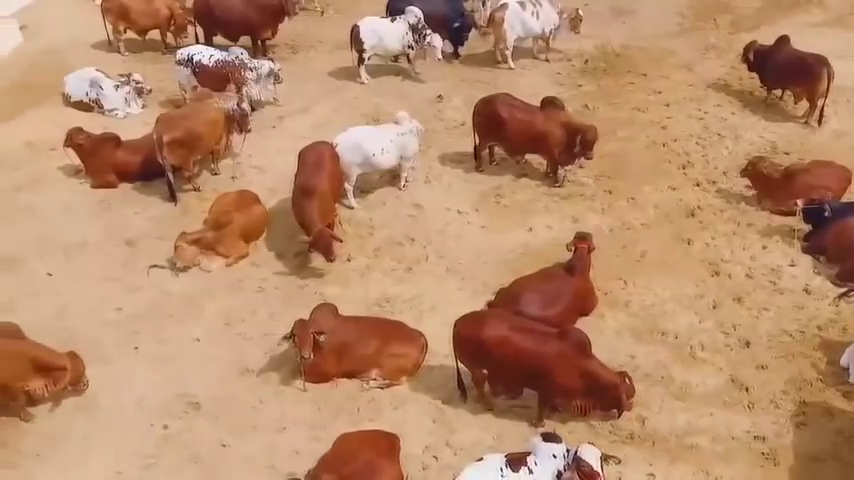bo: (441, 298, 639, 425), (276, 290, 436, 398), (466, 84, 603, 190), (144, 89, 260, 190), (497, 227, 610, 330), (5, 313, 94, 438), (329, 101, 424, 212), (446, 425, 633, 480), (731, 32, 838, 122), (165, 186, 275, 273), (481, 1, 596, 81), (345, 3, 453, 86), (285, 132, 349, 269), (48, 116, 158, 194), (167, 37, 281, 108), (281, 416, 411, 473), (736, 150, 851, 211), (789, 194, 852, 296), (186, 2, 299, 58), (58, 65, 151, 125), (93, 5, 196, 58), (385, 2, 481, 56)
